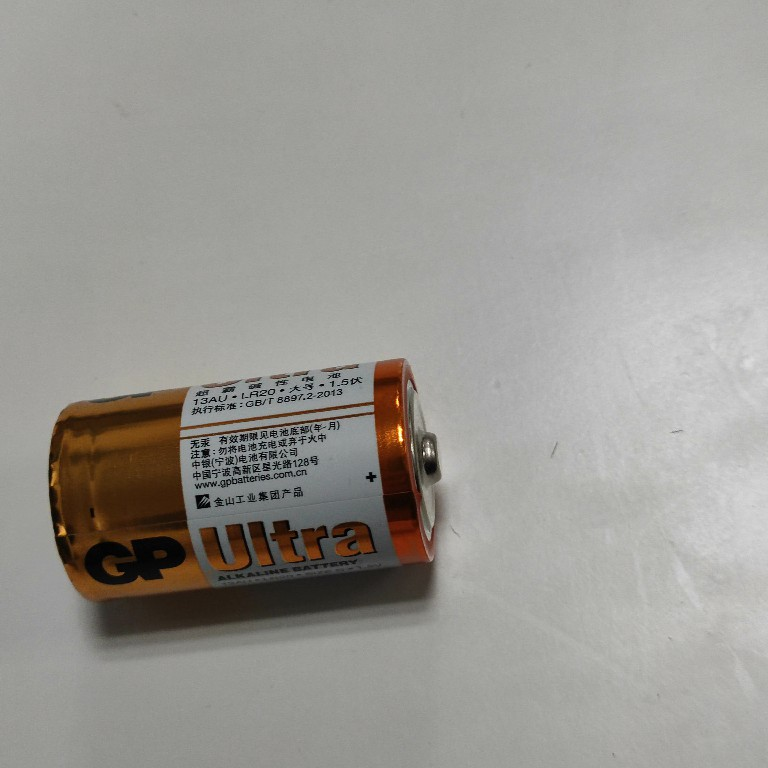charge: (42, 356, 447, 604)
